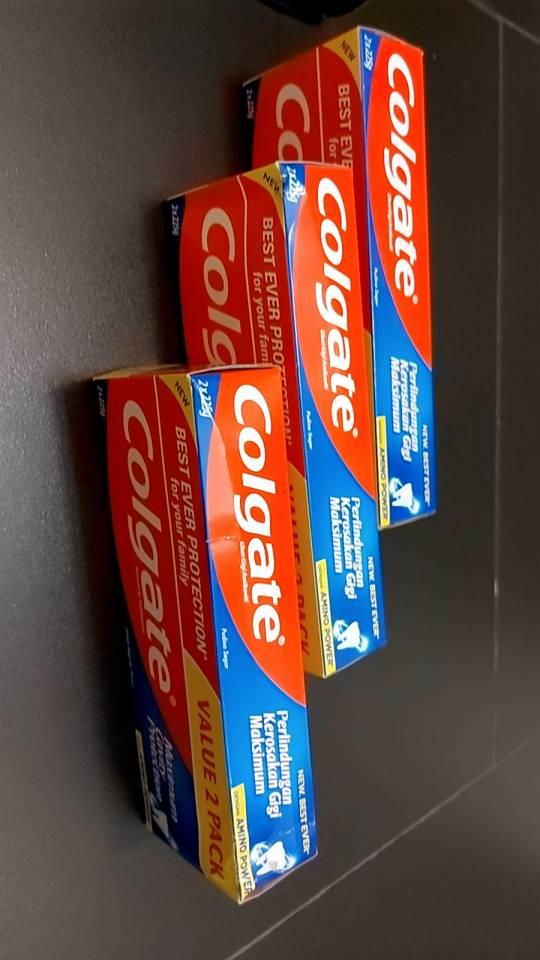cardboard: (98, 27, 435, 900)
